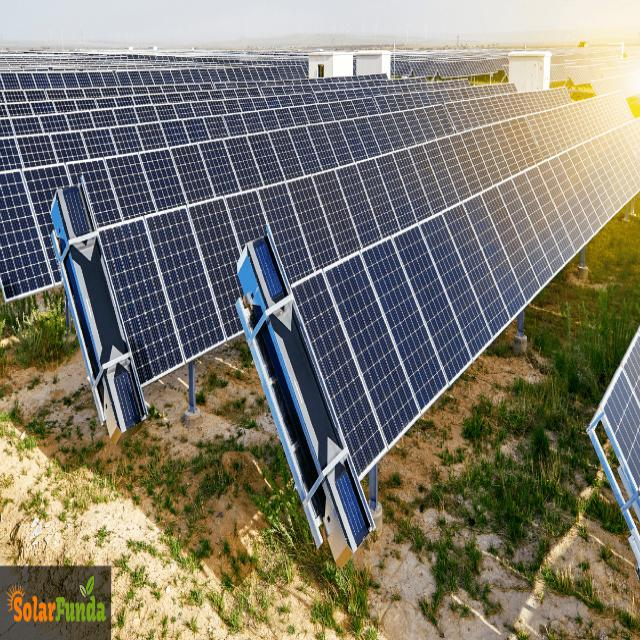clean-solar-panel: (0, 62, 640, 475)
